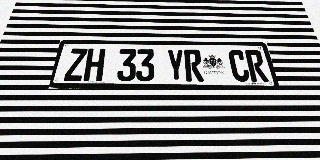3: (117, 49, 137, 81), (136, 49, 154, 81)
C: (227, 50, 251, 82)
H: (83, 48, 106, 81)
R: (244, 50, 269, 82), (184, 49, 204, 81)
Y: (166, 49, 185, 81)
Z: (63, 48, 88, 81)
